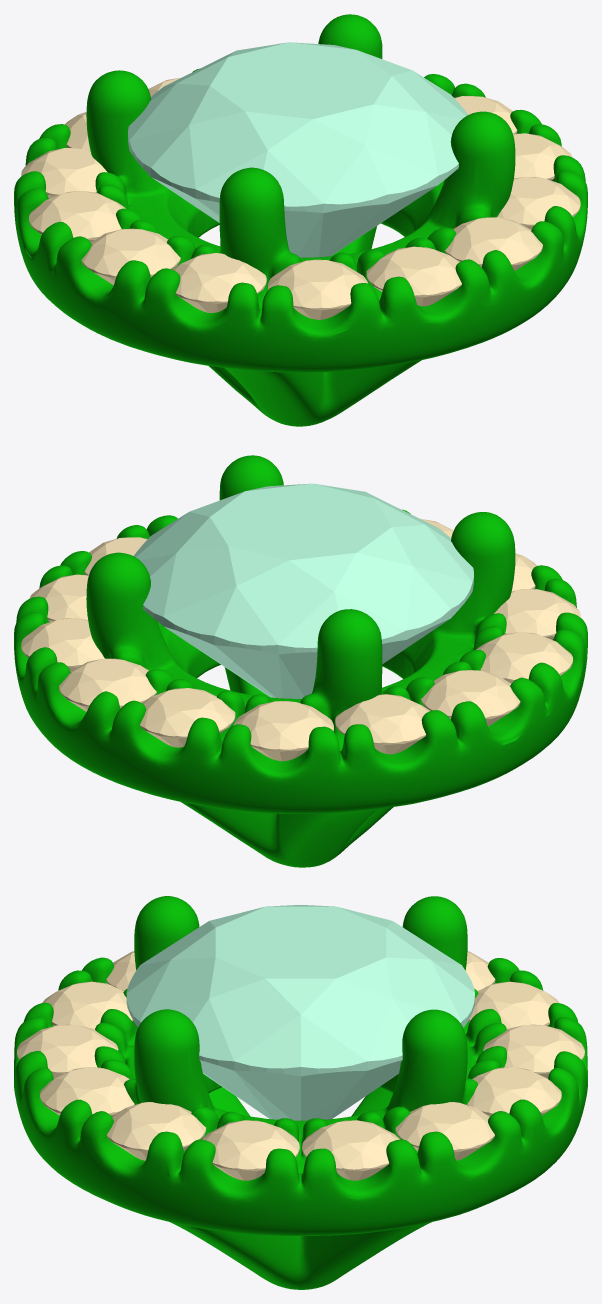
3 renders of one model, top to bottom at view 1: azimuth 30°, elevation 25°; view 2: azimuth 150°, elevation 25°; view 3: azimuth 270°, elevation 25°, orthographic.
Visible parts, largest first — view 1: Metal01, CS_Diamond, Diamond_Round.010, Diamond_Round.011, Diamond_Round.009, Diamond_Round.012, Diamond_Round.008, Diamond_Round.007, Diamond_Round.006, Diamond_Round.013, Diamond_Round, Diamond_Round.001 (+1 smaller); view 2: Metal01, CS_Diamond, Diamond_Round.005, Diamond_Round.004, Diamond_Round.006, Diamond_Round.007, Diamond_Round.003, Diamond_Round.008, Diamond_Round.009, Diamond_Round.002, Diamond_Round.001, Diamond_Round (+1 smaller); view 3: Metal01, CS_Diamond, Diamond_Round.001, Diamond_Round, Diamond_Round.013, Diamond_Round.002, Diamond_Round.012, Diamond_Round.003, Diamond_Round.004, Diamond_Round.011, Diamond_Round.005, Diamond_Round.010 (+2 smaller).
Part boxes in pixels (<box>): Metal01: <box>14,14,587,426</box>; CS_Diamond: <box>128,42,467,257</box>; Diamond_Round.010: <box>268,259,368,319</box>; Diamond_Round.011: <box>366,246,461,306</box>; Diamond_Round.009: <box>172,253,266,312</box>; Diamond_Round.012: <box>445,217,542,270</box>; Diamond_Round.008: <box>81,228,180,285</box>; Diamond_Round.007: <box>29,190,125,242</box>; Diamond_Round.006: <box>21,148,107,198</box>; Diamond_Round.013: <box>497,176,580,229</box>; Diamond_Round: <box>513,133,571,180</box>; Diamond_Round.001: <box>454,96,517,133</box>; Metal01: <box>14,455,587,867</box>; CS_Diamond: <box>134,483,473,698</box>; Diamond_Round.005: <box>233,701,333,761</box>; Diamond_Round.004: <box>139,688,235,747</box>; Diamond_Round.006: <box>335,694,429,754</box>; Diamond_Round.007: <box>421,670,520,726</box>; Diamond_Round.003: <box>59,658,156,711</box>; Diamond_Round.008: <box>476,632,572,683</box>; Diamond_Round.009: <box>494,589,580,639</box>; Diamond_Round.002: <box>21,618,104,671</box>; Diamond_Round.001: <box>29,574,88,621</box>; Diamond_Round: <box>84,537,147,575</box>; Metal01: <box>14,896,587,1289</box>; CS_Diamond: <box>126,905,474,1120</box>; Diamond_Round.001: <box>302,1120,399,1180</box>; Diamond_Round: <box>202,1120,299,1180</box>; Diamond_Round.013: <box>106,1102,206,1160</box>; Diamond_Round.002: <box>395,1102,494,1160</box>; Diamond_Round.012: <box>40,1067,134,1116</box>; Diamond_Round.003: <box>467,1067,561,1116</box>; Diamond_Round.004: <box>483,1024,584,1078</box>; Diamond_Round.011: <box>17,1024,118,1078</box>; Diamond_Round.005: <box>468,981,559,1028</box>; Diamond_Round.010: <box>42,981,133,1028</box>.
Bounding box in the file's own units: 8.52 × 5.51 × 8.48.
